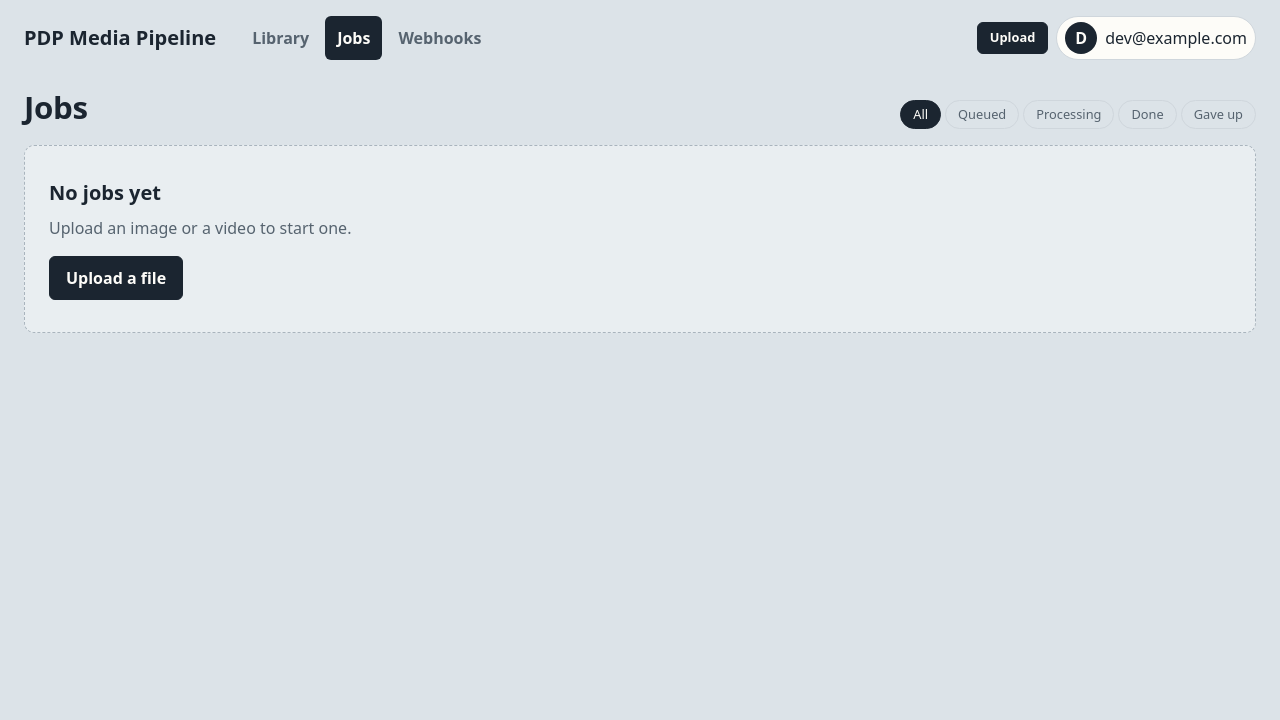
app shell › stays signed in and says so when signing out fails
Click the button named "Account: dev@example.com": coordinates (1156, 38) [1056,16,1256,60]
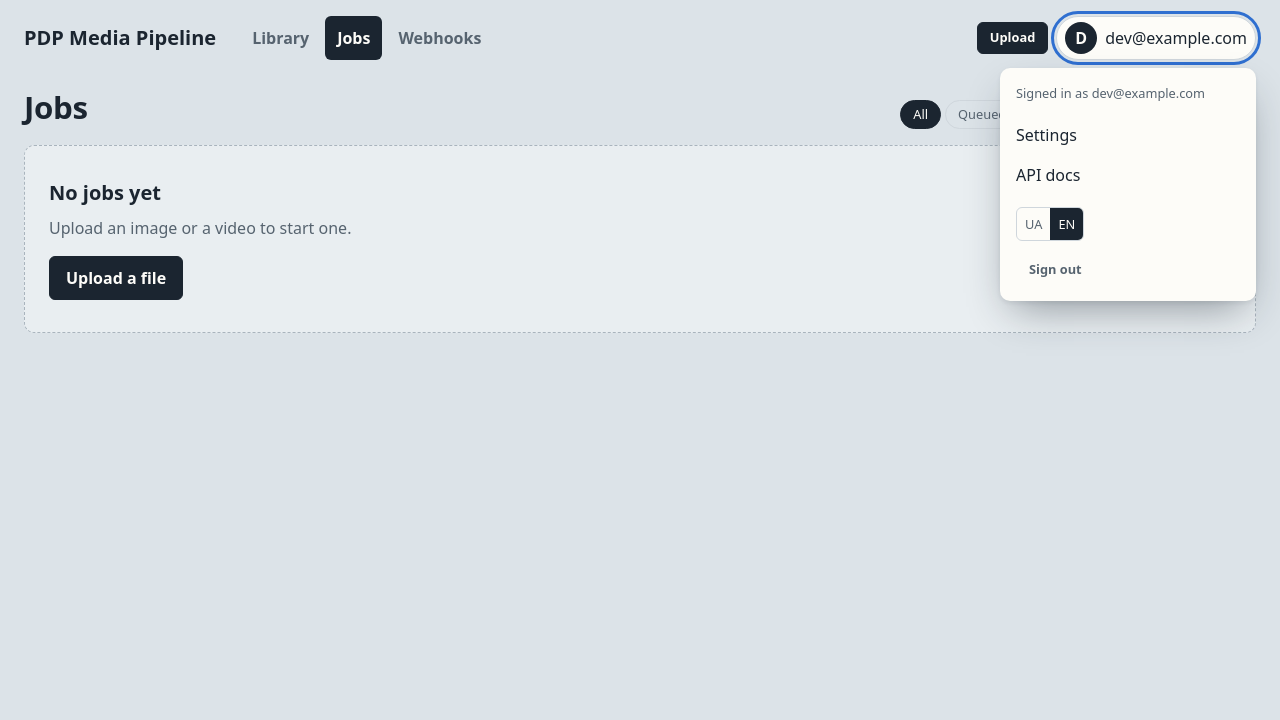
Click the button "Sign out": coordinates (1055, 269) [1016,253,1095,285]
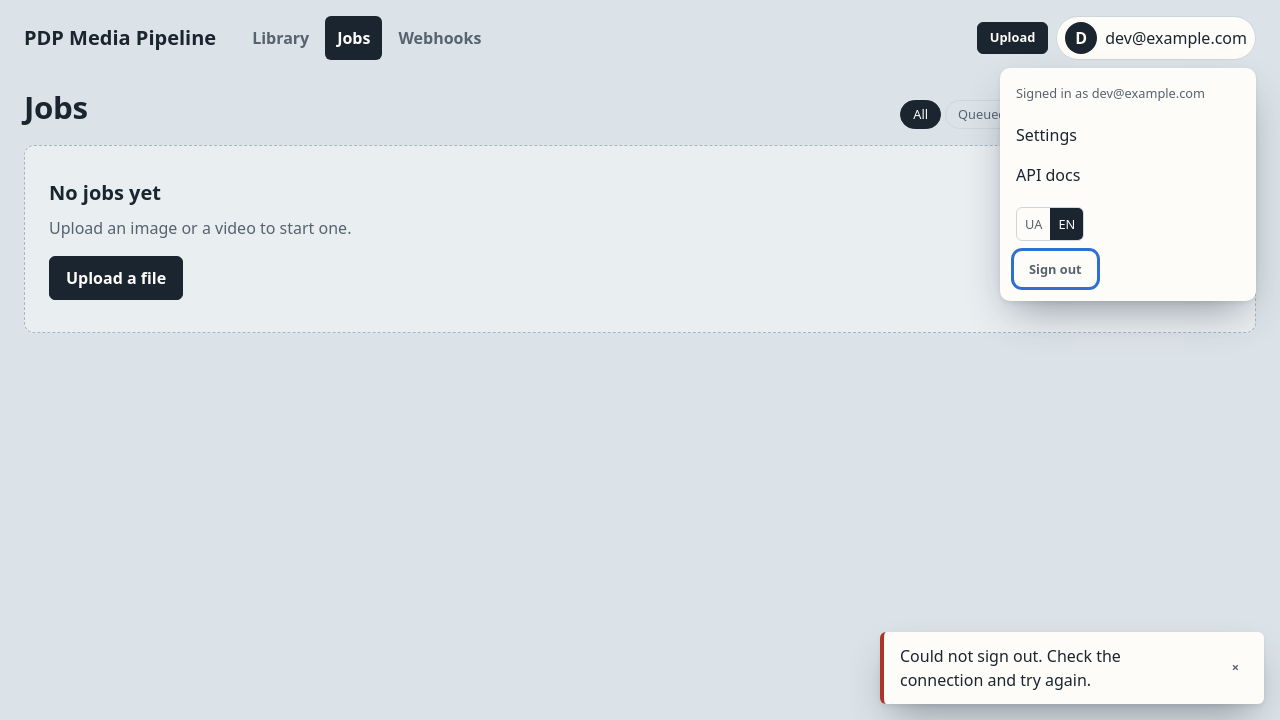
Check: the text "Could not sign out. Check the connection and try again." is shown, box [900,645,1121,691]
